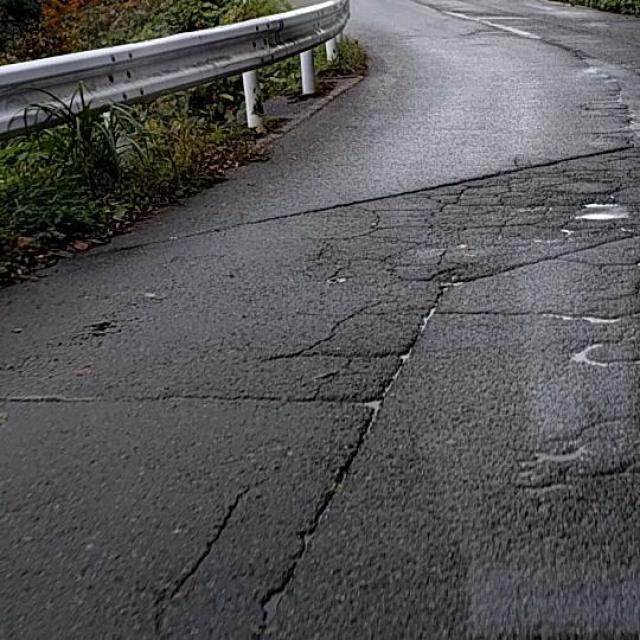Crack: (206, 172, 640, 640)
Pothole: (571, 188, 628, 230)
Surface Erosion: (449, 4, 640, 155)
